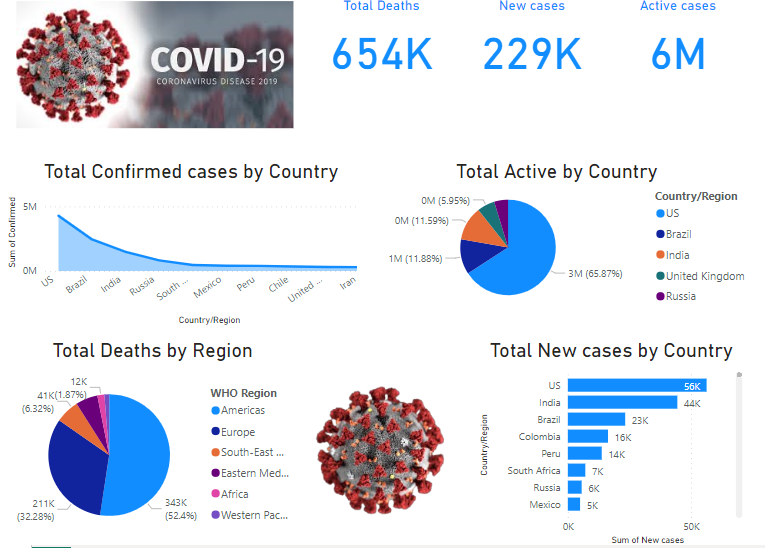

Layout of this report page (visuals, bound fields, positions):
{"tool":"powerbi","page":{"name":"Page 1","canvas":[1280,720],"ordinal":0},"visuals":[{"type":"image","box":[325,435,280,238.8],"z":0},{"type":"image","box":[8.8,0,367.5,165],"z":1000},{"type":"pieChart","title":"Total  Deaths by  Region","fields":{"Y":["Sum(country_wise_latest.Deaths)"],"Category":["country_wise_latest.WHO Region"]},"box":[8.8,417.5,362.5,256.2],"z":2000},{"type":"clusteredBarChart","title":"Total New cases by Country","fields":{"Category":["country_wise_latest.Country/Region"],"Y":["Sum(country_wise_latest.New cases)"]},"box":[583.8,417.5,330,256.2],"z":3000},{"type":"areaChart","title":"Total Confirmed cases by Country","fields":{"Category":["country_wise_latest.Country/Region"],"Y":["Sum(country_wise_latest.Confirmed)"]},"box":[8.8,198.8,456.2,206.2],"z":4000},{"type":"pieChart","title":"Total Active by Country","fields":{"Y":["Sum(country_wise_latest.Active)"],"Category":["country_wise_latest.Country/Region"]},"box":[438.8,198.8,487.5,186.2],"z":5000},{"type":"card","title":"Total Deaths","fields":{"Values":["Sum(country_wise_latest.Deaths)"]},"box":[371.2,0,196.2,105],"z":6000},{"type":"card","title":"New cases","fields":{"Values":["Sum(country_wise_latest.New cases)"]},"box":[556.2,0,192.5,105],"z":7000},{"type":"card","title":"Active cases","fields":{"Values":["Sum(country_wise_latest.Active)"]},"box":[733.8,0,192.5,105],"z":7001}]}

Visuals, with their boxes on the page's 1280x720 design canvas (x1, y1, x2, y2). These are canvas units, not pixel positions in the 765x548 screenshot, which may show the page scaled, cropped or inside an application window:
image: bbox(325, 435, 605, 674)
image: bbox(9, 0, 376, 165)
"Total  Deaths by  Region" pieChart: bbox(9, 418, 371, 674)
"Total New cases by Country" clusteredBarChart: bbox(584, 418, 914, 674)
"Total Confirmed cases by Country" areaChart: bbox(9, 199, 465, 405)
"Total Active by Country" pieChart: bbox(439, 199, 926, 385)
"Total Deaths" card: bbox(371, 0, 567, 105)
"New cases" card: bbox(556, 0, 749, 105)
"Active cases" card: bbox(734, 0, 926, 105)
